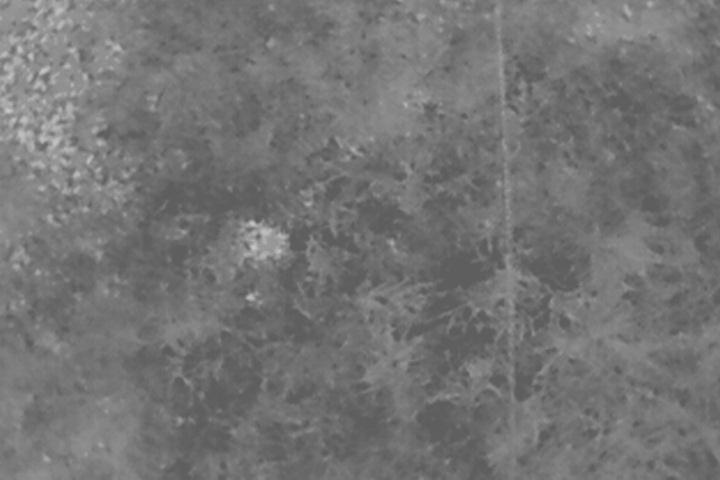landmine: (239, 226, 288, 262)
